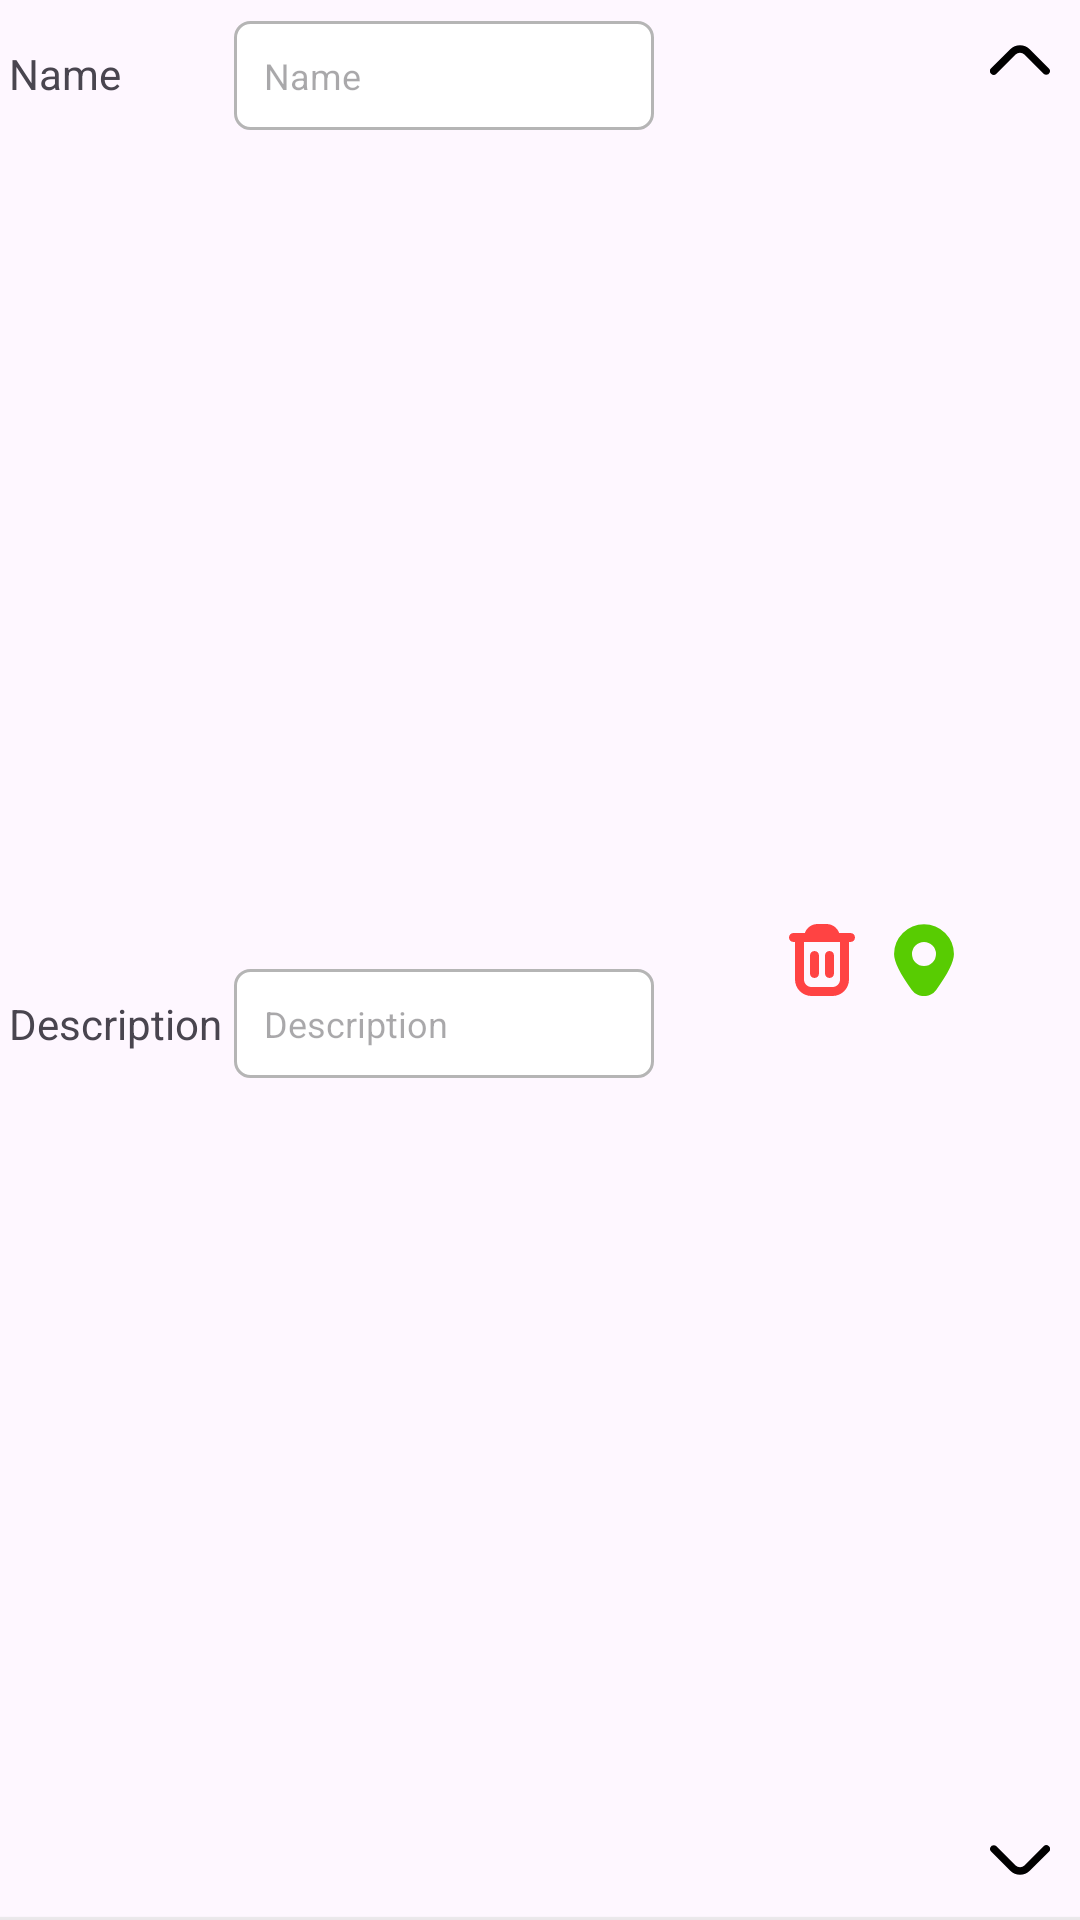

Screen size 1080px x 1920px. Icon name, then its center in pixels as point (x, y):
delete account: point (822, 960)
map: point (924, 960)
